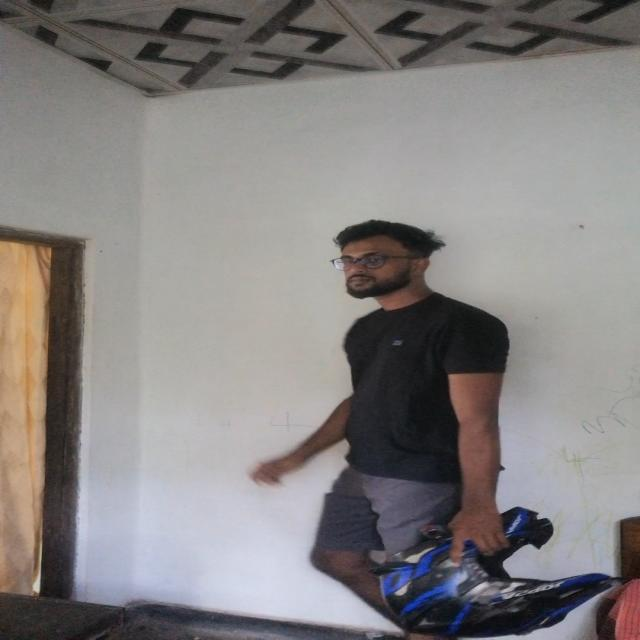Person: (249, 216, 541, 623)
